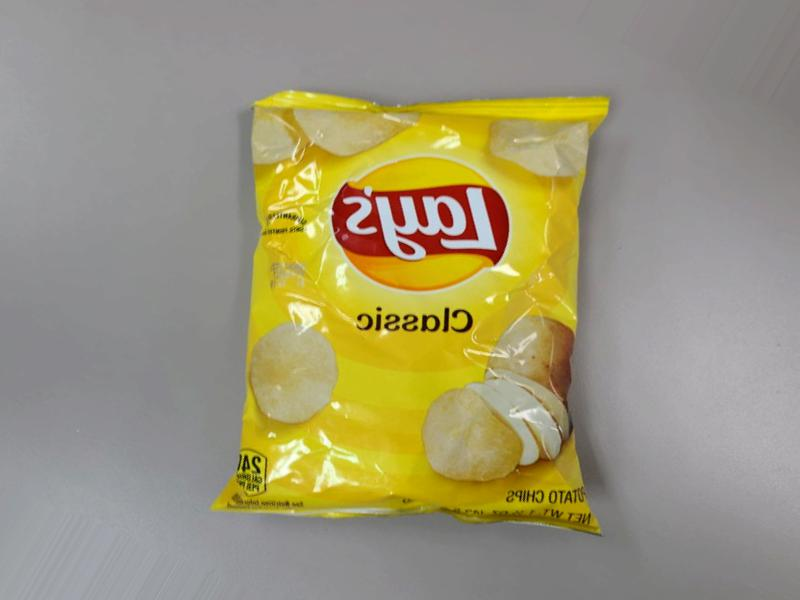lays: (217, 102, 667, 570)
